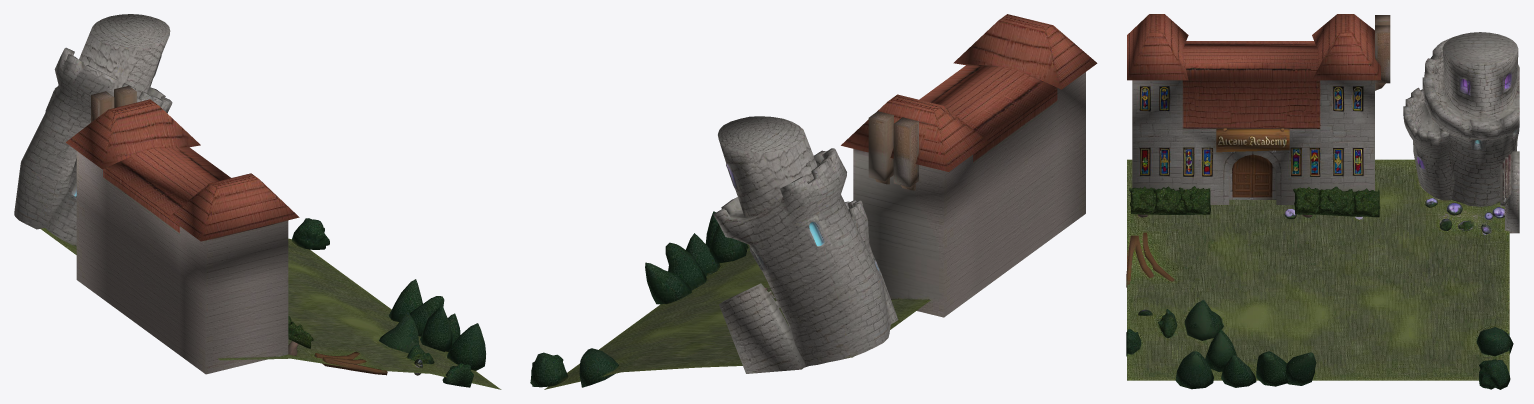
The model's file is academy.glb.
3 renders of one model, left to right at view 1: azimuth 30°, elevation 25°; view 2: azimuth 150°, elevation 25°; view 3: azimuth 270°, elevation 25°, orthographic. The views are drawn at different scales.
Parts seen in each view (by area): view 1: tripo_node_2df10520-dac4-4aa5-b0dd-2b88a27ddd1b; view 2: tripo_node_2df10520-dac4-4aa5-b0dd-2b88a27ddd1b; view 3: tripo_node_2df10520-dac4-4aa5-b0dd-2b88a27ddd1b.
Part boxes in pixels (bbox=[...]): tripo_node_2df10520-dac4-4aa5-b0dd-2b88a27ddd1b: bbox=[14, 14, 501, 389]; tripo_node_2df10520-dac4-4aa5-b0dd-2b88a27ddd1b: bbox=[530, 14, 1097, 389]; tripo_node_2df10520-dac4-4aa5-b0dd-2b88a27ddd1b: bbox=[1126, 14, 1519, 389].
Bounding box in the file's own units: 10.01 × 8 × 11.39.
Materials: 1 (1 with a texture image).
